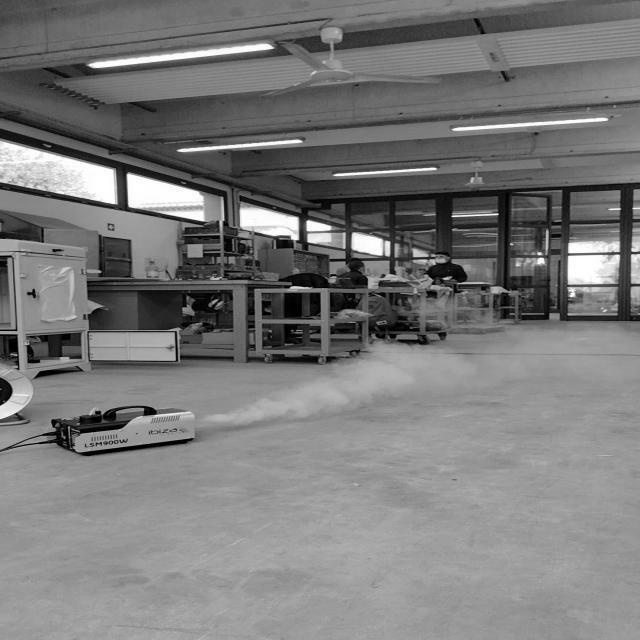fire: (200, 337, 473, 426)
